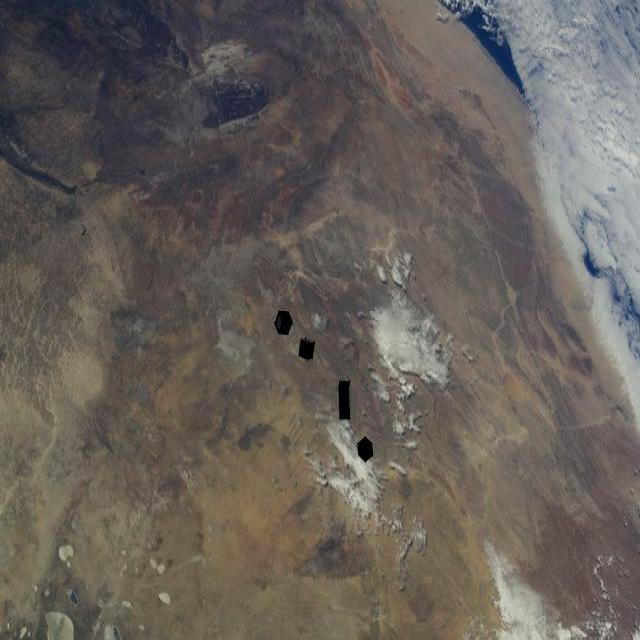satellite: (270, 295, 295, 346), (335, 380, 351, 425), (295, 336, 323, 359), (352, 439, 375, 466)
